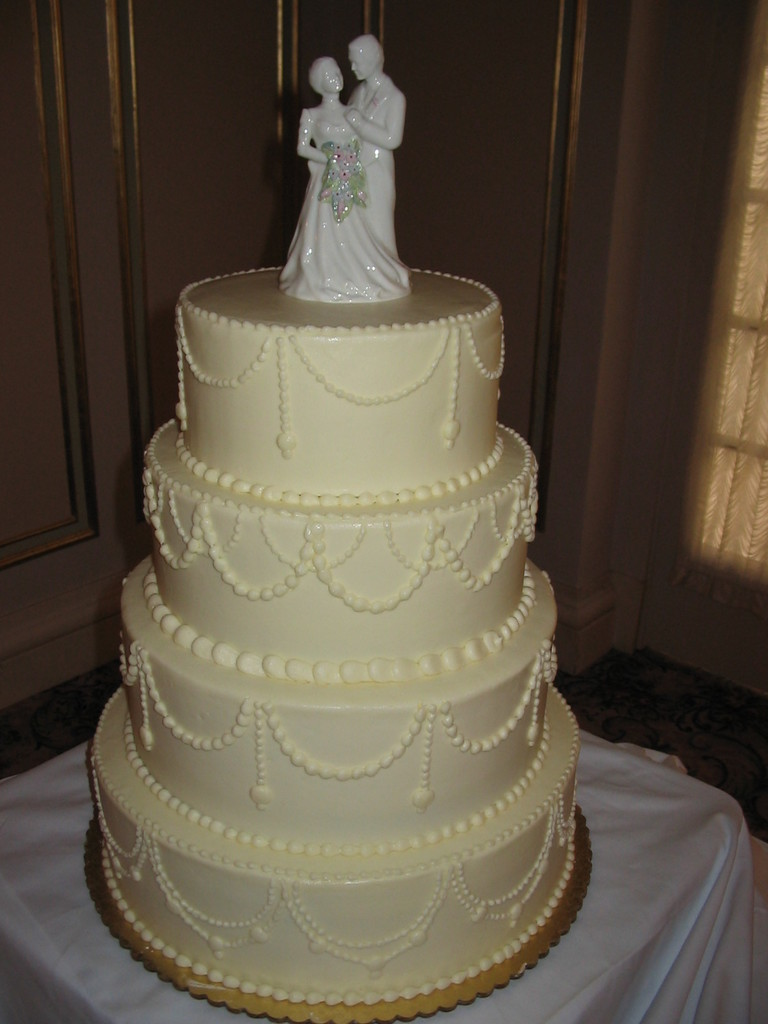cake: (88, 268, 586, 1006)
